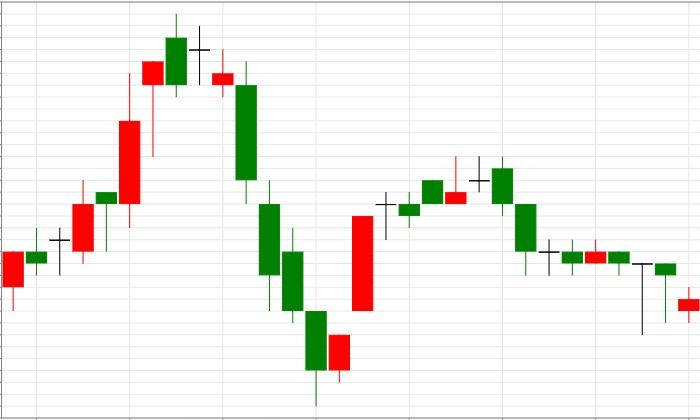hanging_man_fall: (3, 61, 164, 312)
